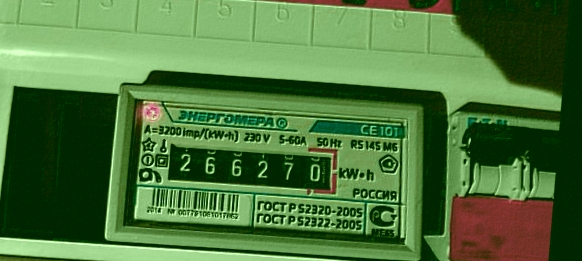0: (308, 163, 322, 184)
2: (177, 153, 194, 174), (255, 159, 270, 180)
6: (203, 155, 217, 177), (230, 158, 244, 179)
7: (281, 161, 294, 181)
screen: (158, 133, 346, 201)
